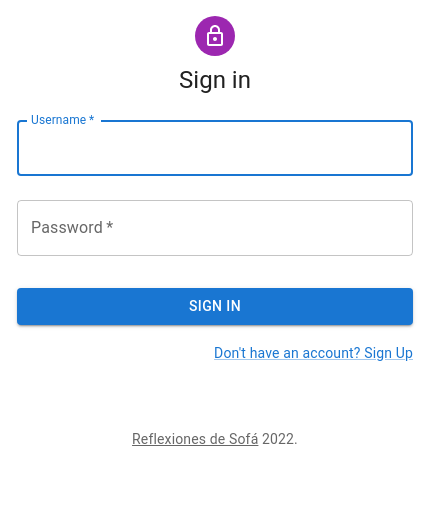
Scenario: Display error when sign in button is clicked with empty username.
Click the button with test id "sign-in-button": x=215, y=306 [17,288,413,324]
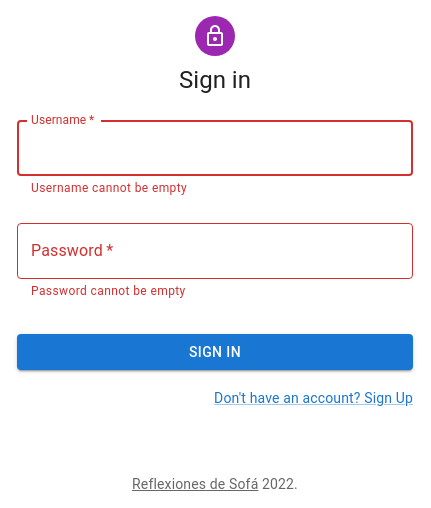
Check: the text with id "username-helper-text" reads "Username cannot be empty", box [31,181,187,195]
